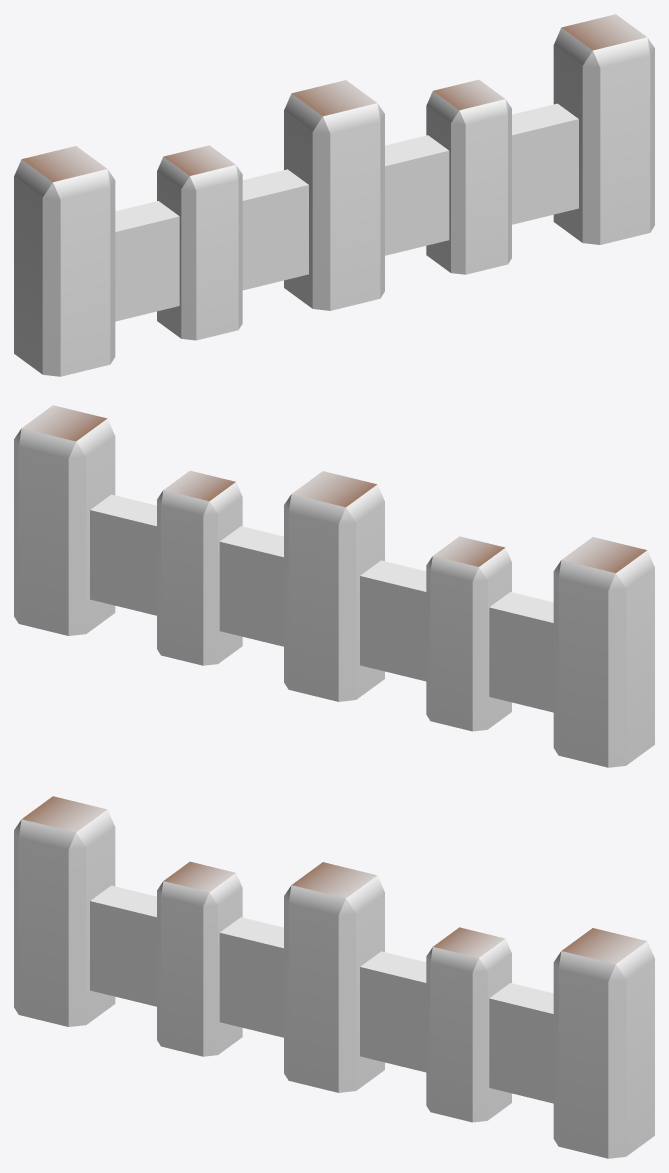
Rendered from Wall_Lv1_1.fbx.
3 renders of one model, top to bottom at view 1: azimuth 30°, elevation 25°; view 2: azimuth 150°, elevation 25°; view 3: azimuth 330°, elevation 25°, orthographic.
Parts seen in each view (by area): view 1: Wall; view 2: Wall; view 3: Wall.
Boxes of the visible parts, bbox=[...] form: Wall: bbox=[14, 14, 654, 376]; Wall: bbox=[14, 405, 654, 767]; Wall: bbox=[14, 796, 654, 1158].
Bounding box in the file's own units: 1.51 × 0.4514 × 0.1786.
